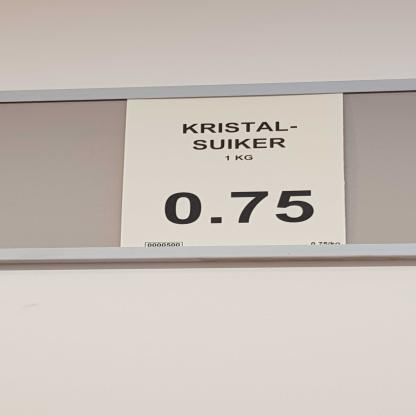prtg: (120, 93, 349, 249)
